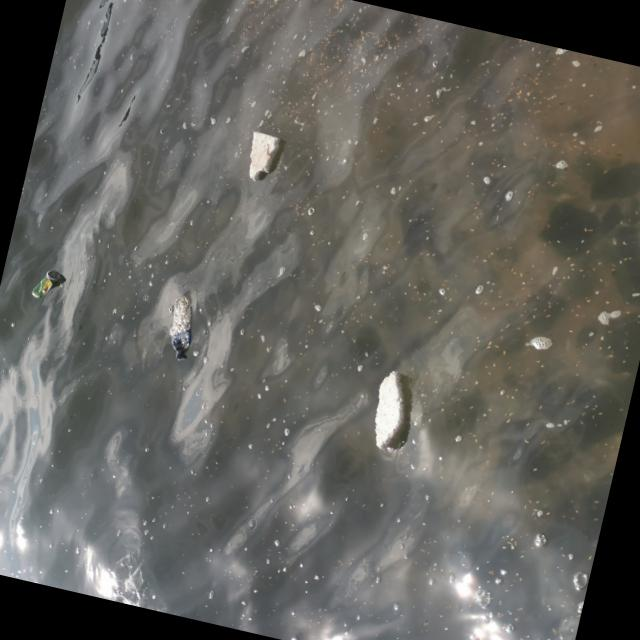can: (27, 265, 68, 302)
foam: (362, 366, 422, 454), (242, 130, 283, 182)
plastic: (160, 291, 203, 362)
